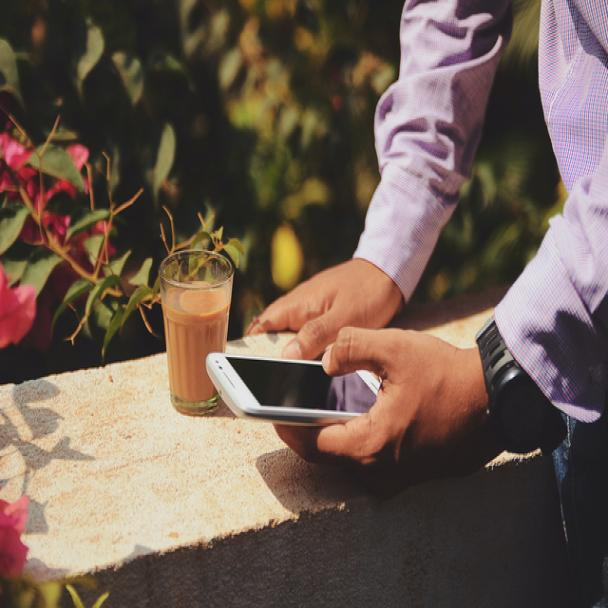Handphone: (204, 346, 398, 440)
Jam: (475, 312, 565, 464)
